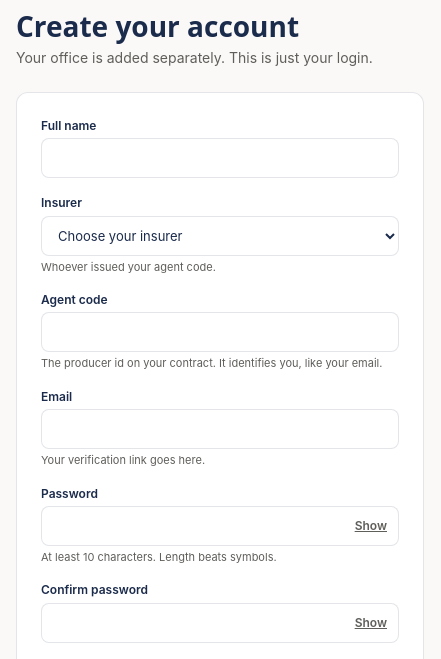
Test: register › offers to show what was typed, on both password boxes
expect the number of buttons named "Show password" is 2: met, box [343, 506, 399, 546]; [343, 603, 399, 643]
Step 1. Type "a long enough password" into the password field labelled "Password" → (220,526), box [41, 506, 399, 546]
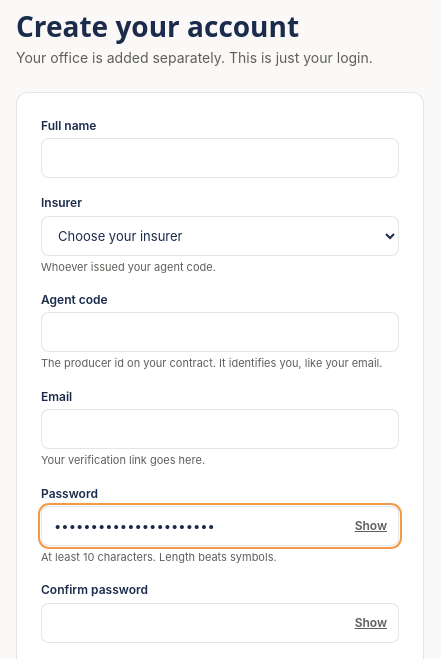
Step 2. Click the button with aria-label "Show password" → (371,526), box [343, 506, 399, 546]
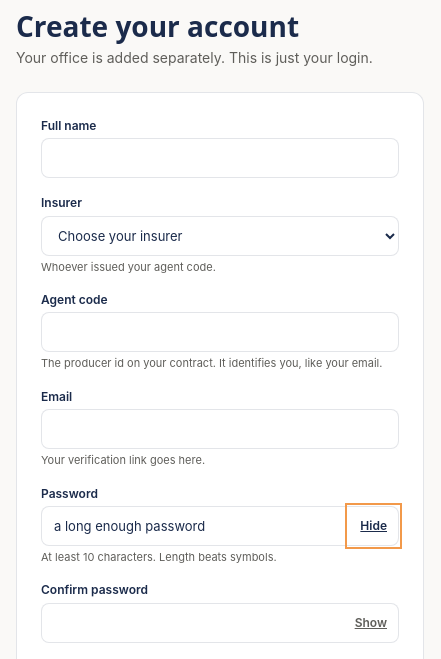
expect the field labelled "Password" shows its text: met, box [41, 506, 399, 546]
